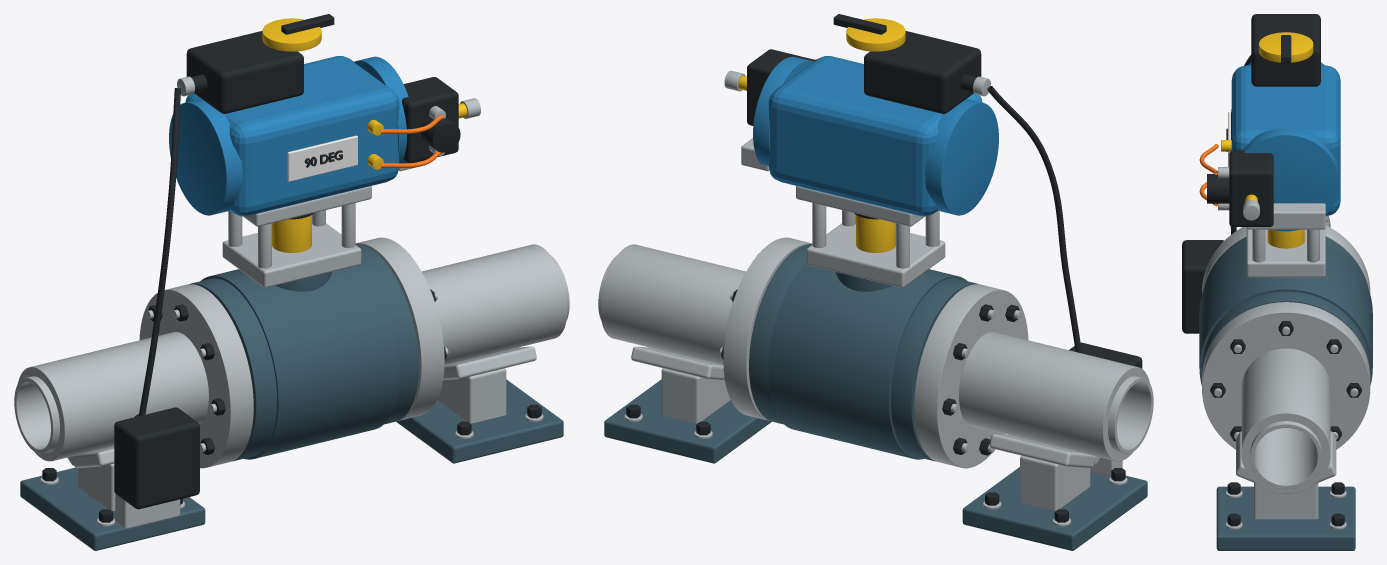
File: actuated_process_valve.glb
The picture shows the model from 3 angles, left to right: view 1: azimuth 30°, elevation 25°; view 2: azimuth 150°, elevation 25°; view 3: azimuth 270°, elevation 25°; orthographic projection. The views are drawn at different scales.
Parts seen in each view (by area): view 1: VALVE_body, ACTUATOR_body, PIPE_spool_L, PIPE_spool_R, MATING_flange_L, FIELD_JUNCTION_box, LIMIT_SWITCH_box, ACTUATOR_endcap_-0.37, PIPE_foot_R, PIPE_foot_L, MATING_flange_R, VALVE_flange_L (+16 smaller); view 2: VALVE_body, ACTUATOR_body, PIPE_spool_L, PIPE_spool_R, MATING_flange_L, PIPE_foot_L, LIMIT_SWITCH_box, ACTUATOR_endcap_-0.37, PIPE_foot_R, MATING_flange_R, VALVE_flange_L, VALVE_ISO_mount_pad (+13 smaller); view 3: MATING_flange_R, PIPE_spool_R, VALVE_body, ACTUATOR_body, PIPE_foot_R, ACTUATOR_endcap_0.37, PROCESS_bore_liner, LIMIT_SWITCH_box, SOLENOID_body, VALVE_ISO_mount_pad, FIELD_JUNCTION_box, PIPE_shoe_post_R (+13 smaller).
Part boxes in pixels (<box>): VALVE_body: <box>200,261,399,459</box>; ACTUATOR_body: <box>185,56,399,216</box>; PIPE_spool_L: <box>18,332,208,461</box>; PIPE_spool_R: <box>422,244,567,365</box>; MATING_flange_L: <box>139,284,253,468</box>; FIELD_JUNCTION_box: <box>114,407,199,509</box>; LIMIT_SWITCH_box: <box>186,31,303,113</box>; ACTUATOR_endcap_-0.37: <box>169,99,242,215</box>; PIPE_foot_R: <box>396,379,563,463</box>; PIPE_foot_L: <box>20,467,205,550</box>; MATING_flange_R: <box>355,237,444,421</box>; VALVE_flange_L: <box>189,278,276,461</box>; VALVE_body: <box>768,261,967,459</box>; ACTUATOR_body: <box>768,56,982,216</box>; PIPE_spool_L: <box>959,332,1149,461</box>; PIPE_spool_R: <box>600,244,745,365</box>; MATING_flange_L: <box>914,284,1028,468</box>; PIPE_foot_L: <box>962,467,1147,550</box>; LIMIT_SWITCH_box: <box>864,31,981,113</box>; ACTUATOR_endcap_-0.37: <box>925,99,998,215</box>; PIPE_foot_R: <box>604,379,771,463</box>; MATING_flange_R: <box>723,237,812,421</box>; VALVE_flange_L: <box>891,278,978,461</box>; VALVE_ISO_mount_pad: <box>806,223,945,287</box>; MATING_flange_R: <box>1202,302,1370,449</box>; PIPE_spool_R: <box>1241,348,1330,493</box>; VALVE_body: <box>1199,243,1372,385</box>; ACTUATOR_body: <box>1231,65,1340,215</box>; PIPE_foot_R: <box>1216,486,1355,550</box>; ACTUATOR_endcap_0.37: <box>1242,127,1339,231</box>; PROCESS_bore_liner: <box>1250,421,1321,489</box>; LIMIT_SWITCH_box: <box>1251,14,1320,86</box>; SOLENOID_body: <box>1229,150,1273,226</box>; VALVE_ISO_mount_pad: <box>1246,229,1325,277</box>; FIELD_JUNCTION_box: <box>1182,240,1223,333</box>; PIPE_shoe_post_R: <box>1254,483,1318,519</box>.
Bounding box in the file's own units: 2.22 × 1.82 × 0.77.
